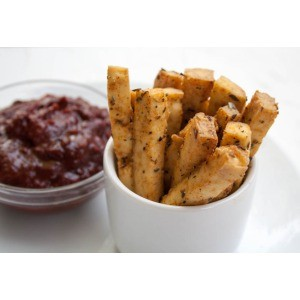tofu_brain food: (108, 59, 276, 206)
